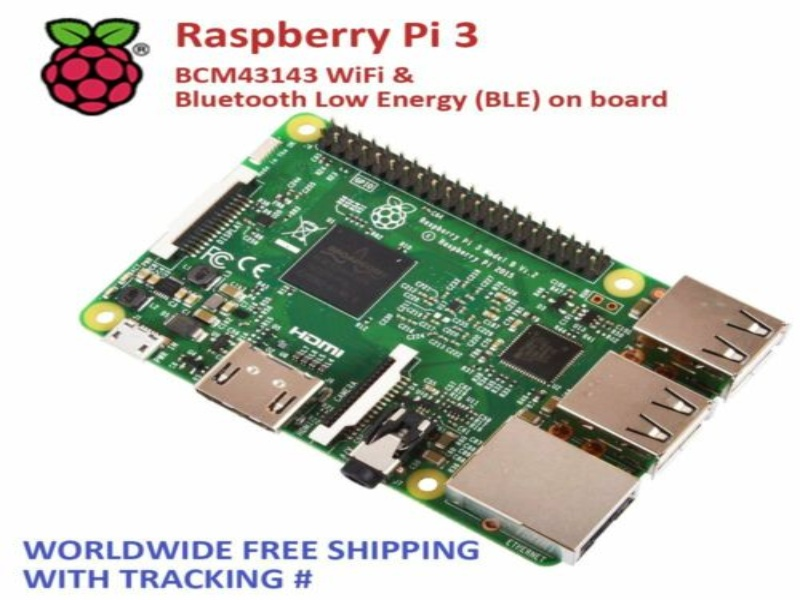raspberrypi: (90, 102, 757, 555)
